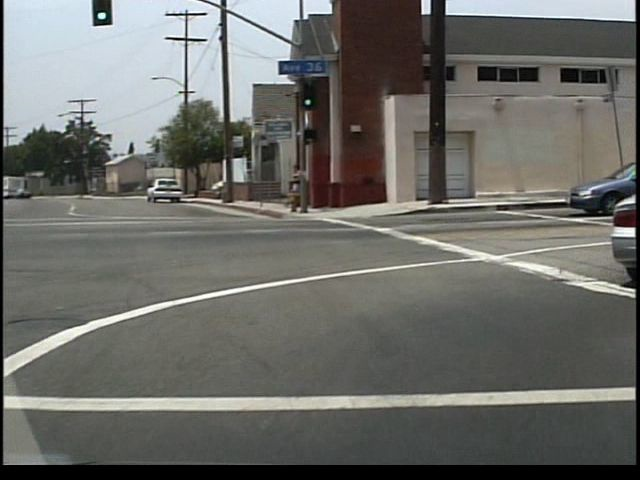person: (294, 163, 312, 214)
